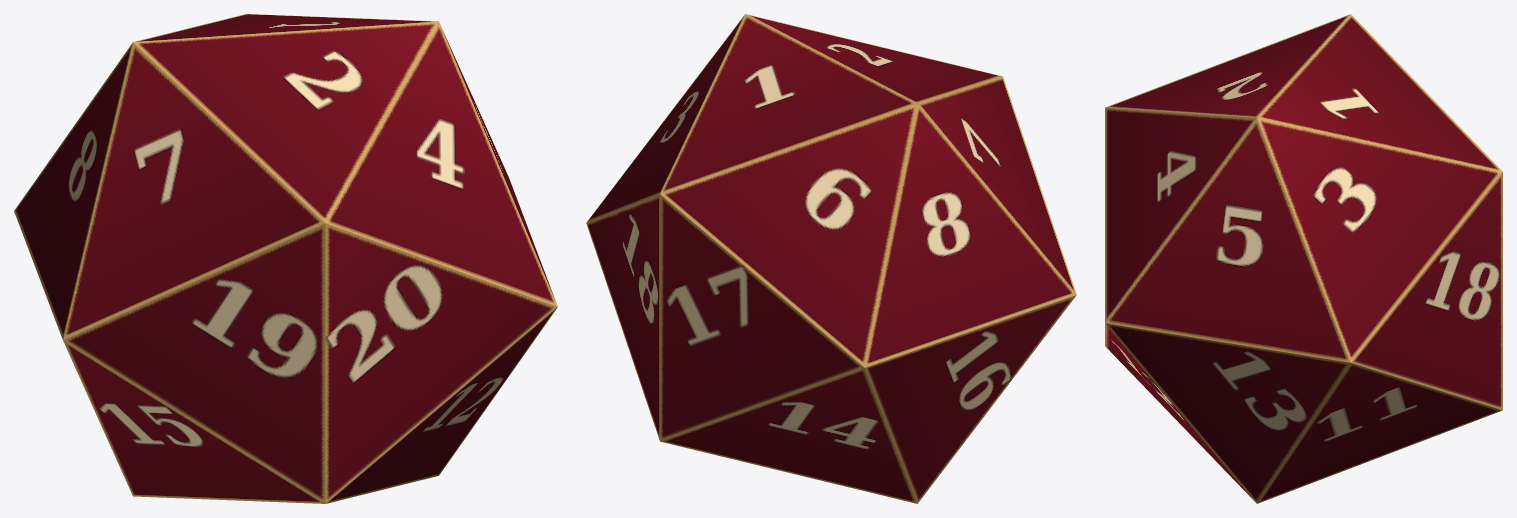
The model's file is ruby_d20.glb.
3 views of the same model, side by side, from view 1: azimuth 30°, elevation 25°; view 2: azimuth 150°, elevation 25°; view 3: azimuth 270°, elevation 25° (orthographic). The views are drawn at different scales.
Parts seen in each view (by area): view 1: world; view 2: world; view 3: world.
Part boxes in pixels (left/top/right/bottom): world: left=14, top=14, right=557, bottom=503; world: left=586, top=14, right=1076, bottom=503; world: left=1105, top=14, right=1502, bottom=503.
Size of the model in its own units: 1.96 by 1.7 by 1.59.
Materials: 1 (1 with a texture image).
